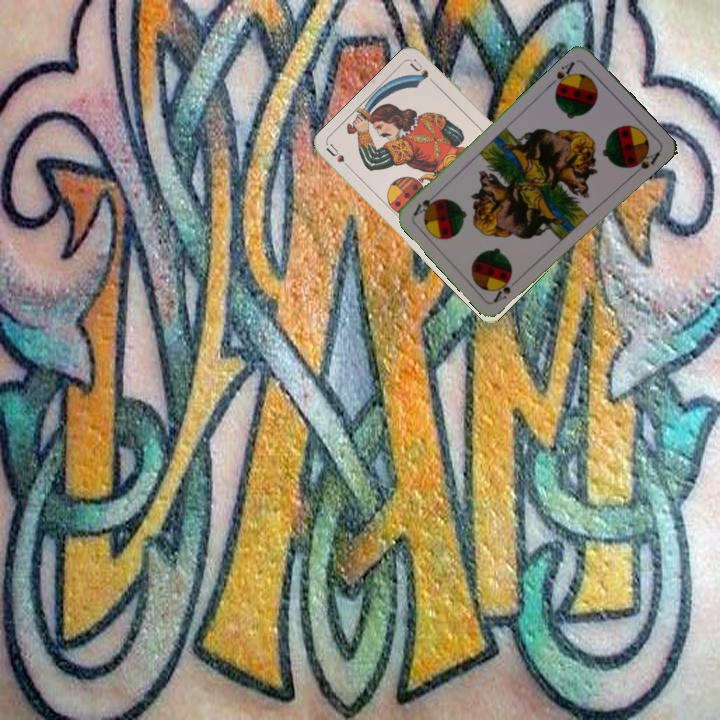SA: (489, 272, 523, 306), (547, 57, 578, 92)
SU: (323, 141, 357, 175)
